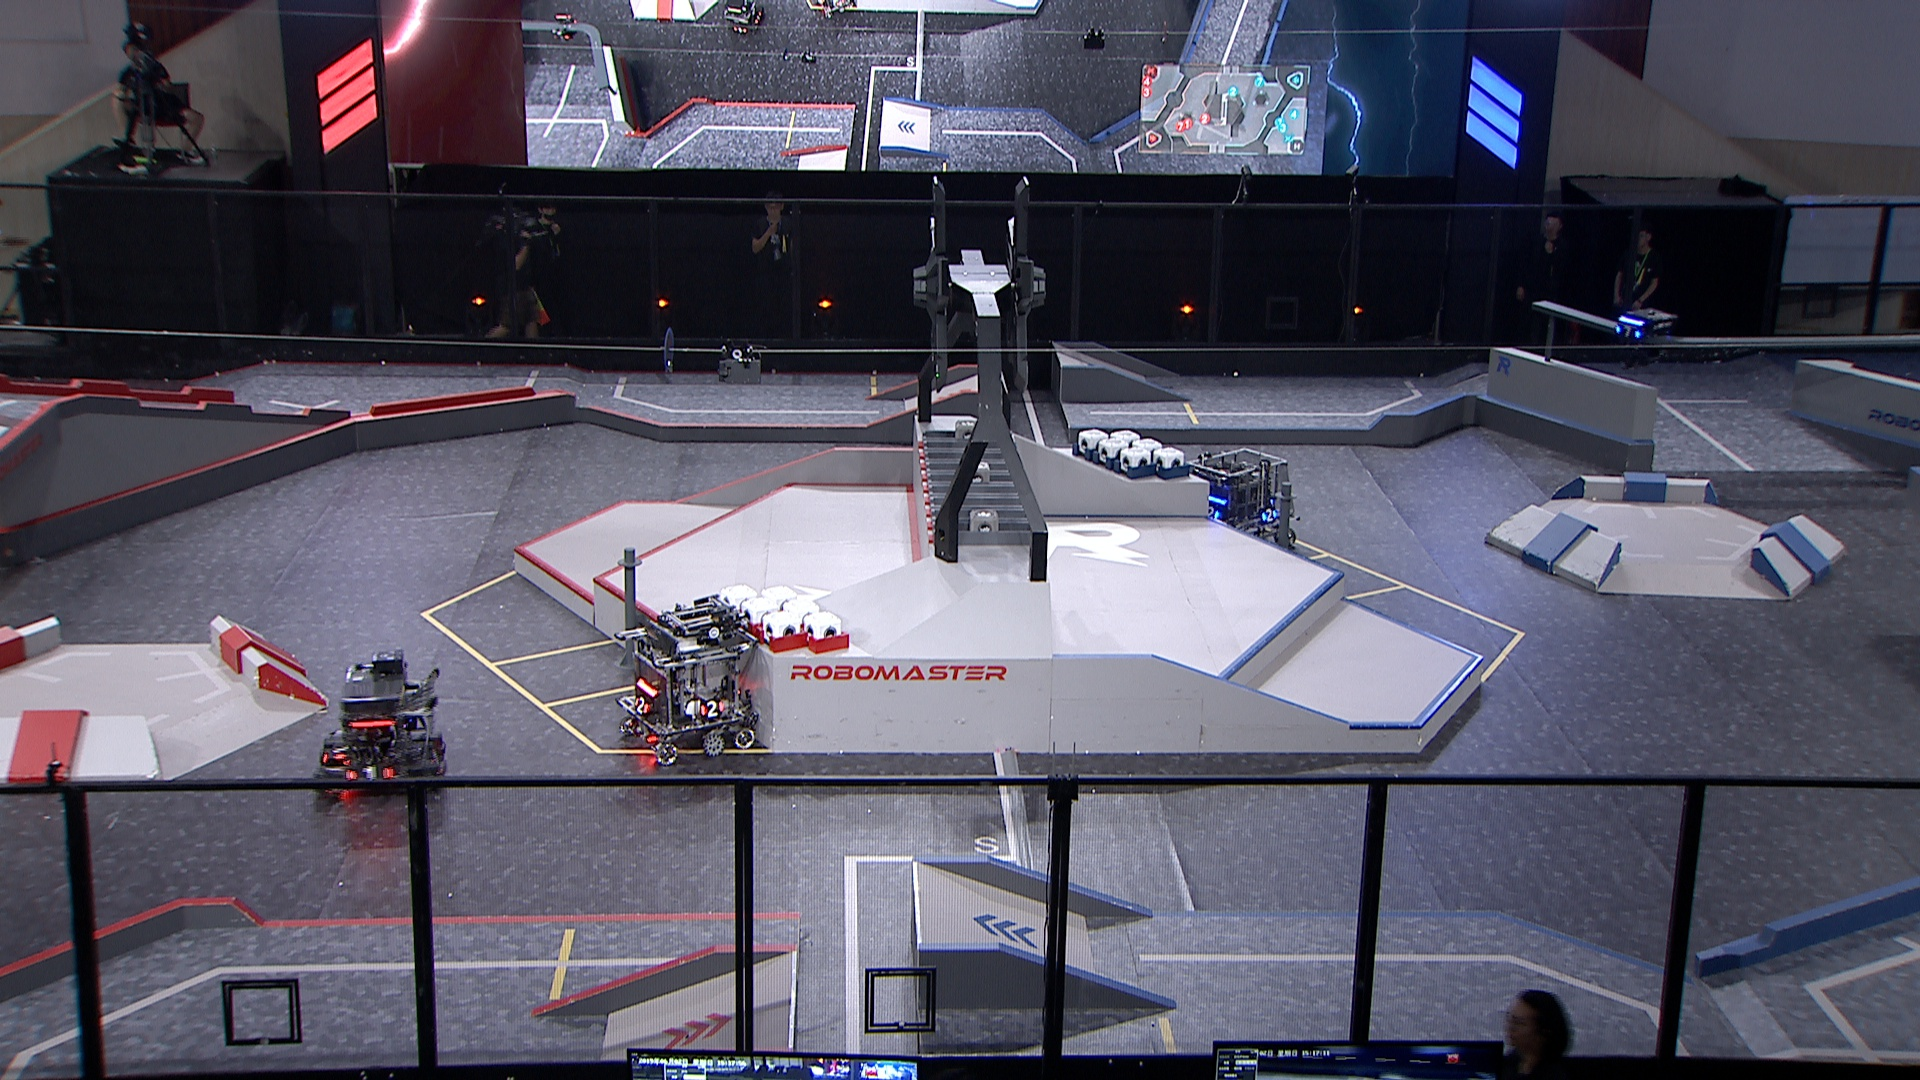armor: (342, 764, 396, 783), (330, 738, 351, 764), (699, 700, 727, 717), (1614, 323, 1642, 339), (632, 698, 654, 716), (1259, 508, 1280, 524), (1207, 506, 1221, 520)
car: (612, 593, 764, 764), (314, 650, 448, 796), (1182, 447, 1299, 553)
ignore: (723, 3, 765, 38), (550, 15, 578, 44)
watcher: (1613, 305, 1676, 372)
